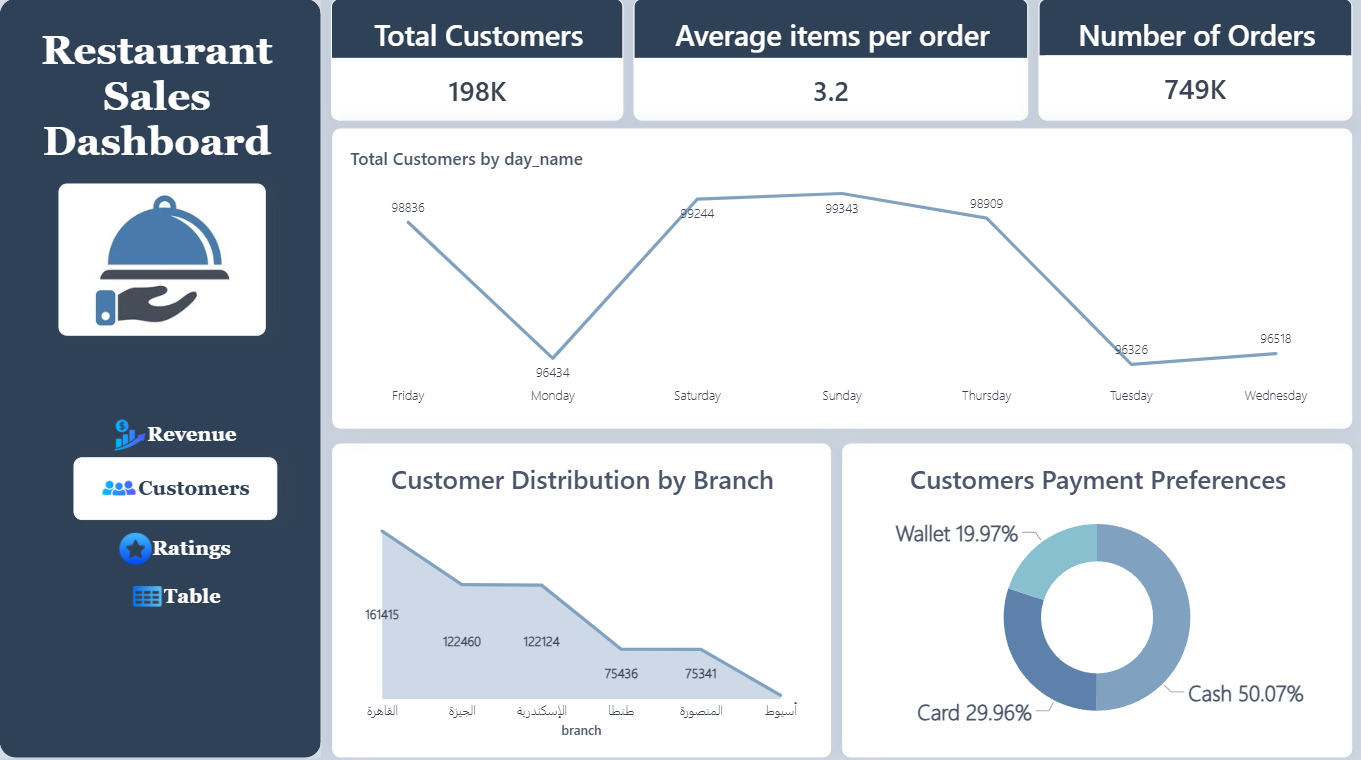

What the dashboard file says about the page in this screenshot:
{"tool":"powerbi","page":{"name":"Customers","canvas":[1280,720],"ordinal":1},"visuals":[{"type":"shape","box":[8.6,7.4,298.8,706.2],"z":0},{"type":"image","box":[62.8,179.1,193,141.9],"z":1000},{"type":"textbox","title":"Restaurant Sales & Performance Dashboard","box":[18.6,31.4,255.8,140.7],"z":2000},{"type":"cardVisual","title":"Total Customers","fields":{"Data":["Measures_table.Total Customers"]},"box":[316.6,7,272.1,114],"z":3000},{"type":"cardVisual","title":"Average items per order","fields":{"Data":["Measures_table.average items"]},"box":[597.8,7,367.4,114],"z":4000},{"type":"cardVisual","title":"Number of Orders","fields":{"Data":["Measures_table.Number of Orders"]},"box":[974.4,7,291.9,114],"z":5000},{"type":"stackedAreaChart","title":"Customer Distribution by Branch","fields":{"Category":["fullrestaurant.branch"],"Y":["Count(fullrestaurant.customer_id)"]},"box":[317.4,420.9,464,291.9],"z":6000},{"type":"donutChart","title":"Customers Payment Preferences","fields":{"Category":["fullrestaurant.payment_method"],"Y":["Measures_table.Total Revenue"]},"box":[791.9,420.9,474.4,291.9],"z":7000},{"type":"lineChart","fields":{"Category":["fullrestaurant.year","fullrestaurant.month","fullrestaurant.day_name"],"Y":["Measures_table.Total Customers"]},"box":[317.4,127.9,948.8,279.1],"z":8000},{"type":"actionButton","title":"Customers","box":[77,434,189.5,58.1],"z":9000},{"type":"actionButton","title":"Customers","box":[89.5,383.7,161.6,58.1],"z":10000},{"type":"actionButton","title":"Customers","box":[89.6,533.3,165.1,59.3],"z":11000},{"type":"actionButton","title":"Customers","box":[90.6,489.3,161.6,58.1],"z":12000}]}

Visuals, with their boxes in screenshot pixels (x1, y1, x2, y2), scaled from the page's 1280x720 canvas onto the 1361x760 screenshot:
shape: crop(9, 8, 327, 753)
image: crop(67, 189, 272, 339)
"Restaurant Sales & Performance Dashboard" textbox: crop(20, 33, 292, 182)
"Total Customers" cardVisual: crop(337, 7, 626, 128)
"Average items per order" cardVisual: crop(636, 7, 1026, 128)
"Number of Orders" cardVisual: crop(1036, 7, 1346, 128)
"Customer Distribution by Branch" stackedAreaChart: crop(337, 444, 831, 752)
"Customers Payment Preferences" donutChart: crop(842, 444, 1346, 752)
lineChart - fullrestaurant.year x fullrestaurant.month: crop(337, 135, 1346, 430)
"Customers" actionButton: crop(82, 458, 283, 519)
"Customers" actionButton: crop(95, 405, 267, 466)
"Customers" actionButton: crop(95, 563, 271, 626)
"Customers" actionButton: crop(96, 516, 268, 578)
